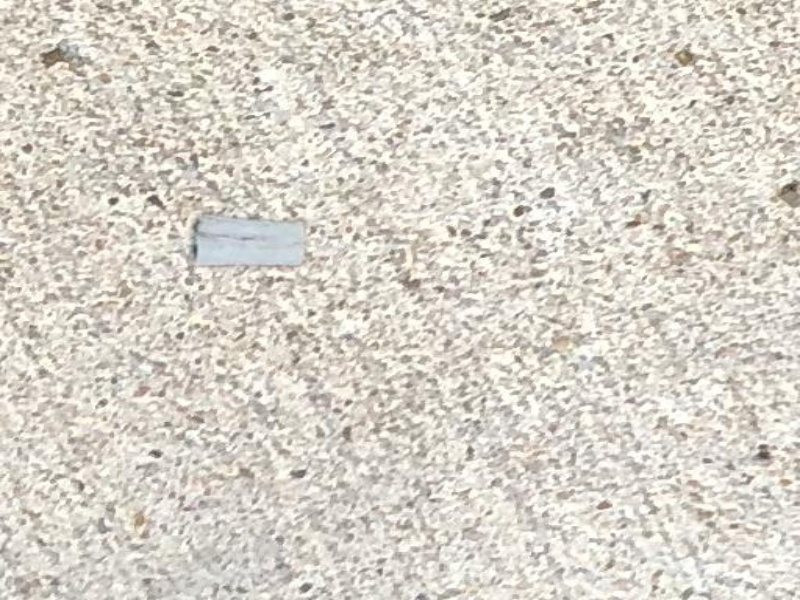cig: (187, 204, 313, 278)
